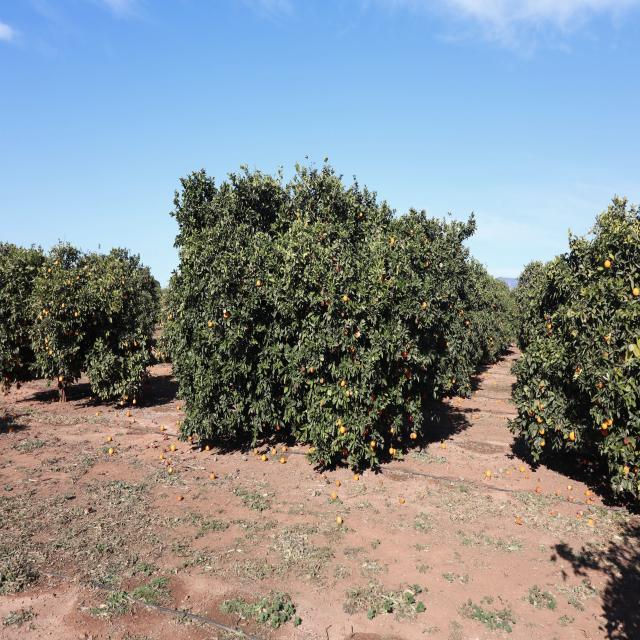Jeruk Sudah Matang: (343, 390, 353, 400), (632, 287, 640, 297), (538, 383, 546, 393), (606, 418, 614, 426), (574, 366, 582, 374), (362, 427, 370, 435), (255, 278, 262, 287), (390, 236, 397, 245), (309, 364, 315, 374), (422, 302, 428, 312), (570, 431, 576, 441), (339, 426, 346, 434), (604, 260, 612, 267), (601, 429, 608, 437), (354, 330, 361, 338), (598, 378, 603, 388), (343, 296, 350, 303), (339, 426, 346, 433), (340, 379, 346, 387), (319, 378, 325, 386), (325, 298, 331, 306), (602, 422, 608, 430), (544, 314, 550, 322), (366, 406, 372, 414), (349, 346, 355, 354), (276, 424, 282, 431), (406, 373, 412, 380), (539, 428, 545, 435), (540, 440, 546, 447), (377, 409, 383, 416), (359, 210, 364, 218), (402, 350, 407, 358), (371, 394, 376, 402), (370, 442, 376, 448), (390, 428, 396, 434), (410, 227, 414, 236), (424, 260, 430, 266), (224, 312, 229, 319), (424, 238, 429, 245), (337, 419, 342, 426), (404, 366, 409, 373), (343, 328, 348, 335), (318, 401, 324, 406), (536, 417, 542, 422), (208, 320, 212, 327), (390, 448, 394, 455), (304, 222, 309, 227), (547, 324, 552, 329), (466, 320, 470, 325), (436, 333, 440, 338), (452, 379, 456, 384), (461, 309, 464, 314), (449, 304, 452, 309), (421, 367, 425, 370), (446, 342, 449, 346), (459, 314, 462, 318), (490, 336, 492, 341)
